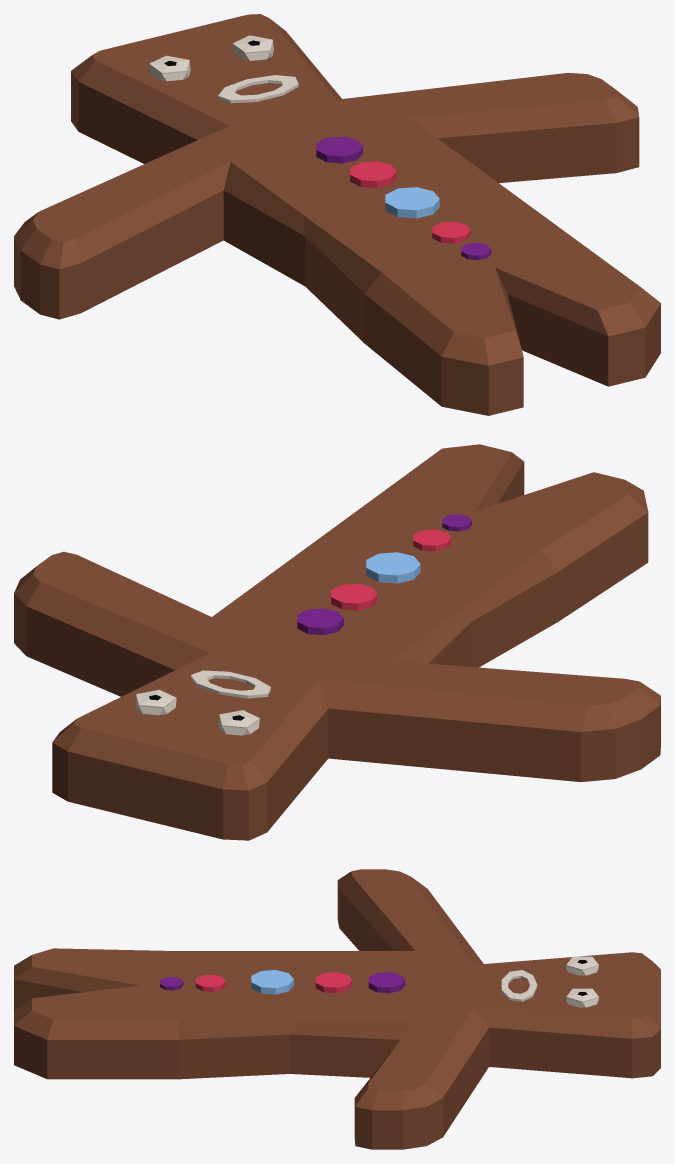
File: Cooziczki.fbx
3 views of the same model, one above another, from view 1: azimuth 30°, elevation 25°; view 2: azimuth 150°, elevation 25°; view 3: azimuth 270°, elevation 25° (orthographic). The views are drawn at different scales.
Visible parts, largest first — view 1: Cooziczki; view 2: Cooziczki; view 3: Cooziczki.
Boxes of the visible parts, x1,y1,x2,y2 form: Cooziczki: [14, 14, 660, 415]; Cooziczki: [14, 444, 660, 840]; Cooziczki: [14, 869, 660, 1149].
Bounding box in the file's own units: 162 × 19.62 × 190.
